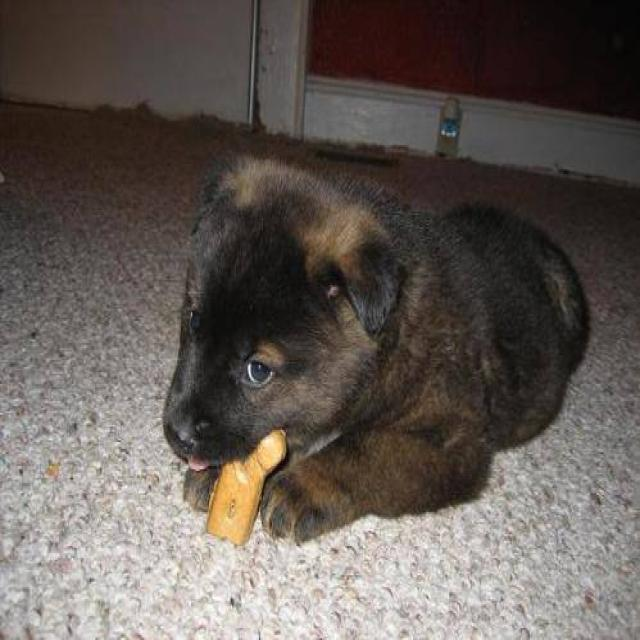dog: (160, 148, 592, 544)
